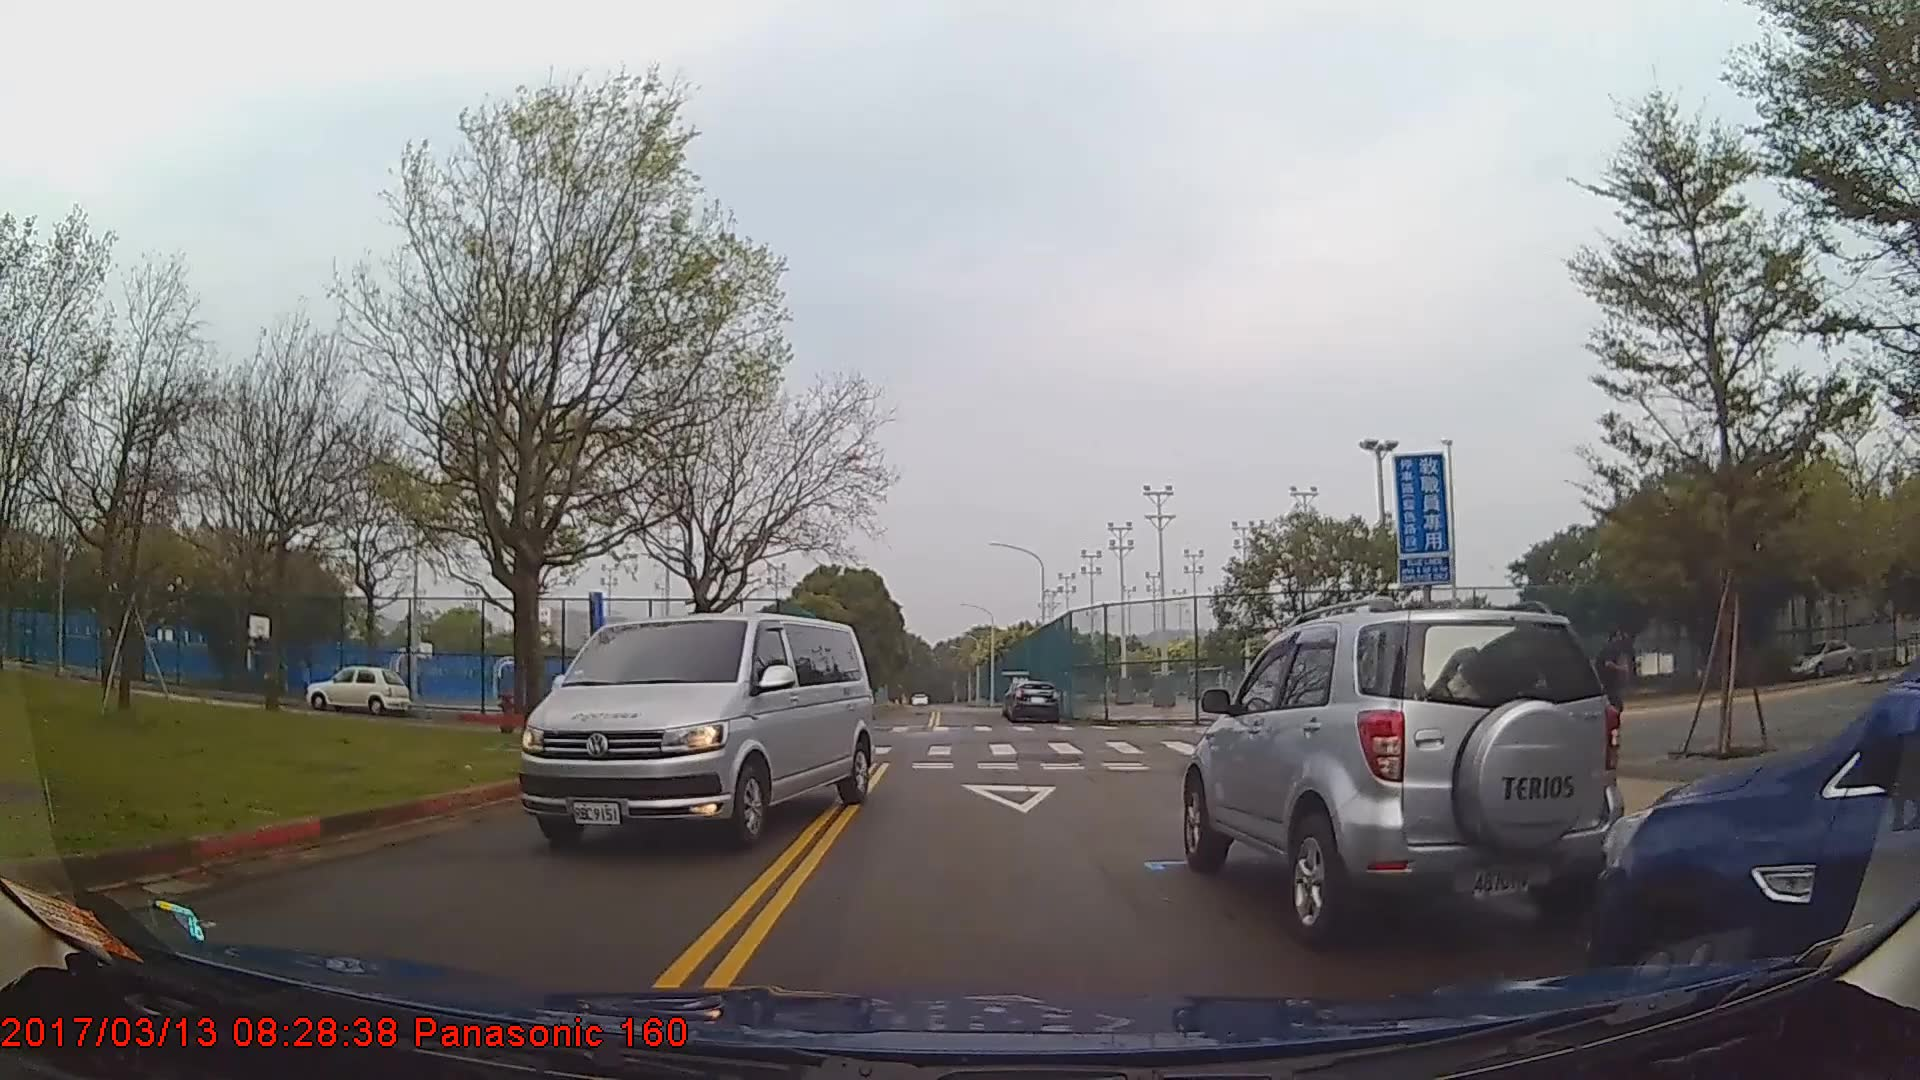vehicle: (1180, 609, 1623, 942), (1586, 665, 1920, 1031), (516, 611, 874, 851), (301, 662, 410, 713), (1788, 640, 1861, 680), (1005, 679, 1062, 723)
